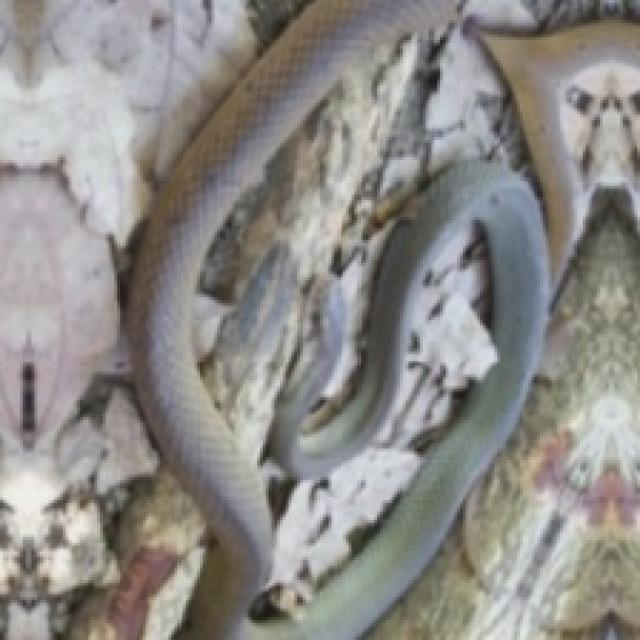reddish rat snake: (128, 0, 454, 581), (248, 165, 550, 639)
